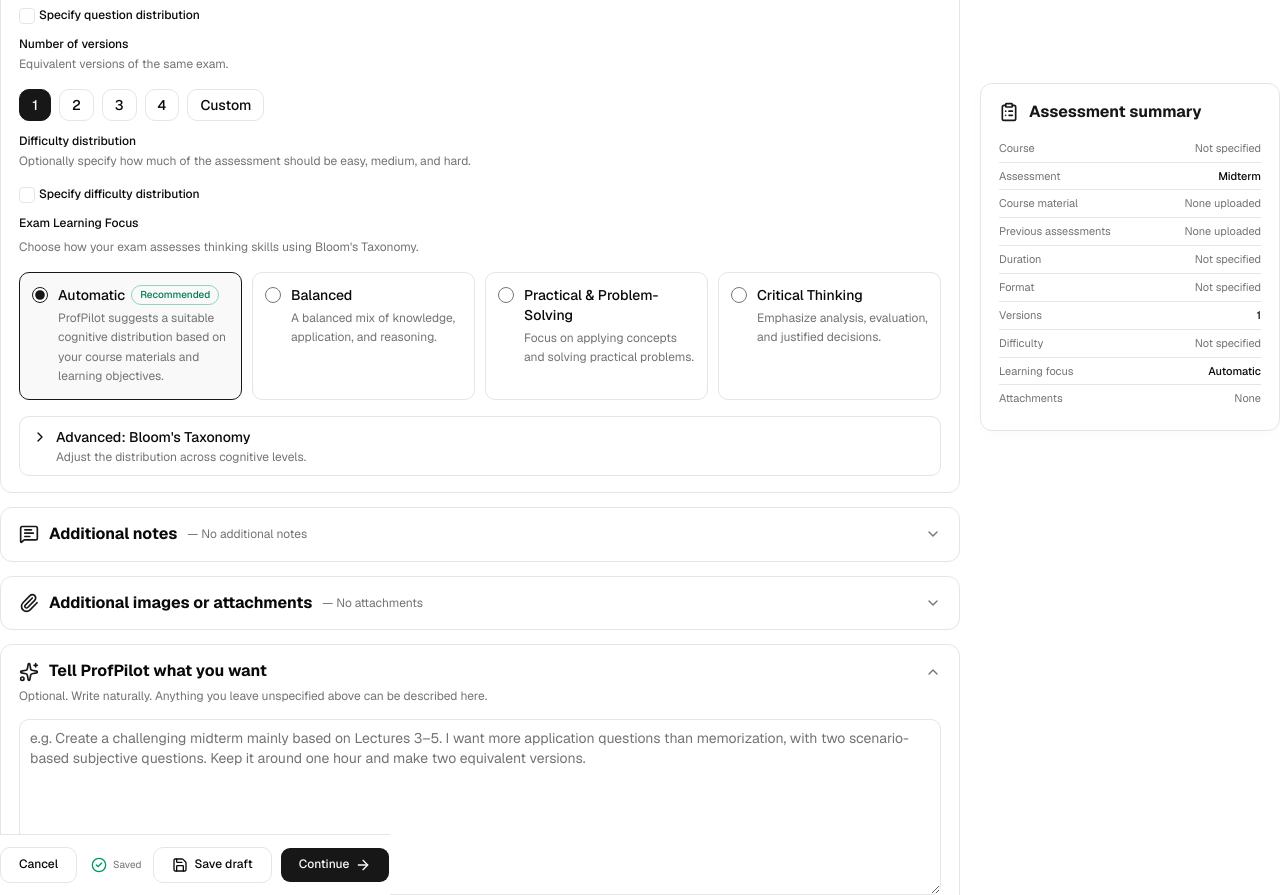
it: with Automatic, the plan's real recommendation is shown once it exists
(page scrolled)
Click the button "Advanced: Bloom's Taxonomy" at coordinates (169, 446), box top-left (32, 427), bottom-right (306, 465)
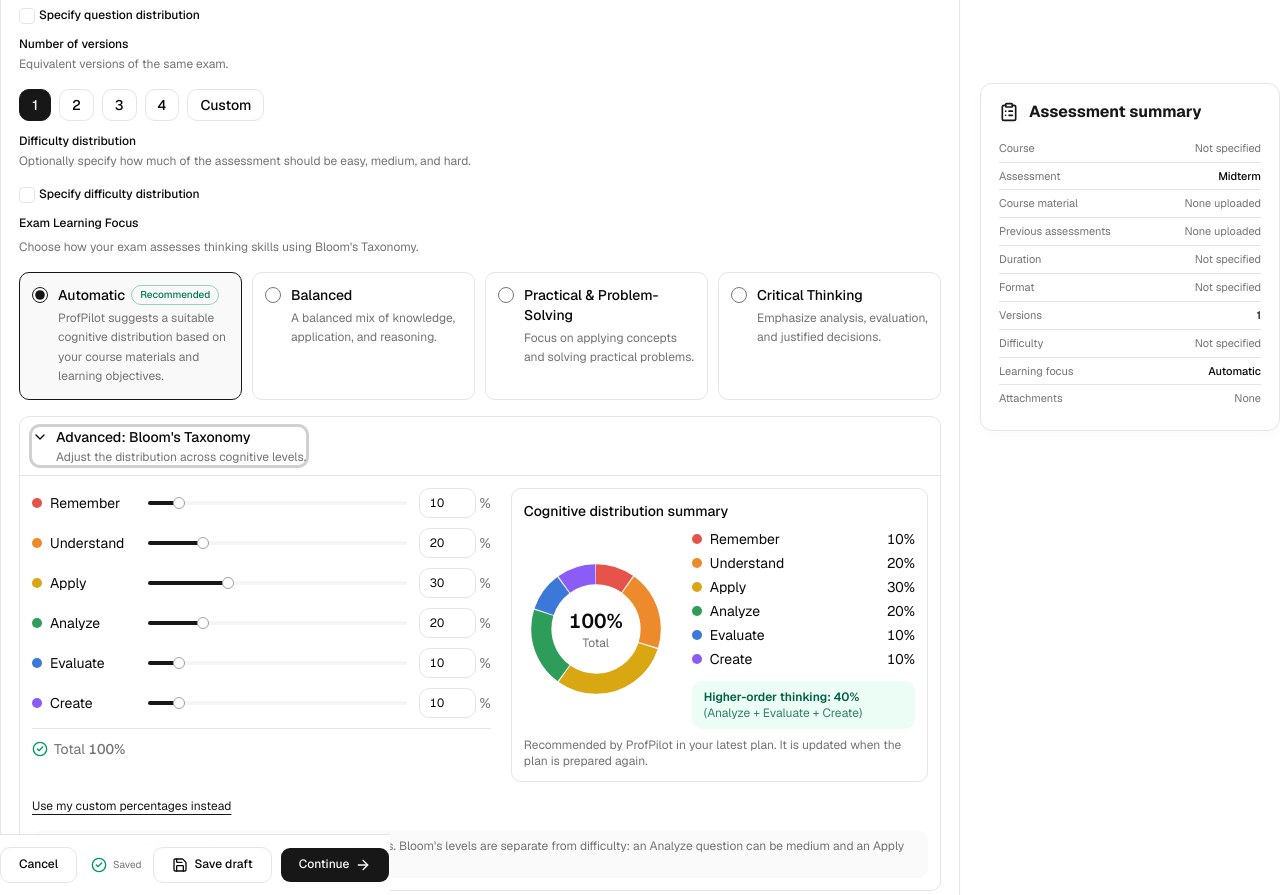
Now the text "Recommended by ProfPilot in your latest plan" is shown, box top-left (524, 737), bottom-right (901, 769)
Now the number field labelled "Apply" holds "30", box top-left (419, 568), bottom-right (476, 598)
Now the text "Higher-order thinking: 40%" is shown, box top-left (704, 689), bottom-right (859, 705)
